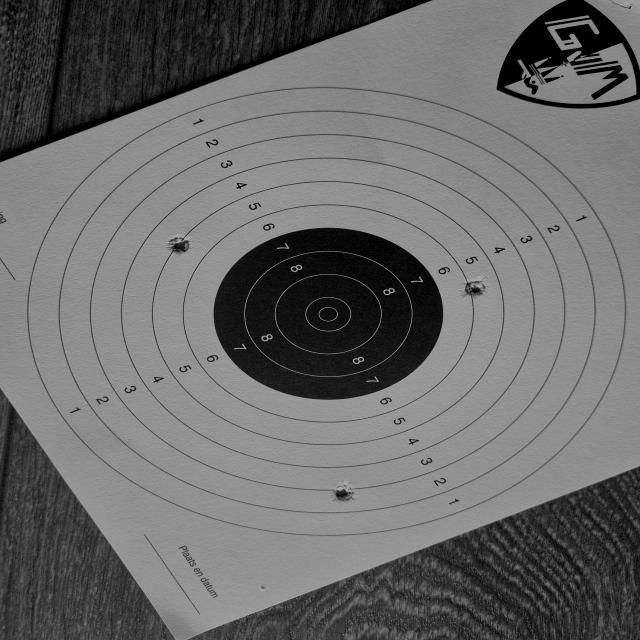3: (332, 483, 354, 502)
5: (168, 236, 190, 254)
6: (462, 280, 486, 298)
Target: (28, 85, 630, 537)
black_contour: (214, 228, 442, 400)
